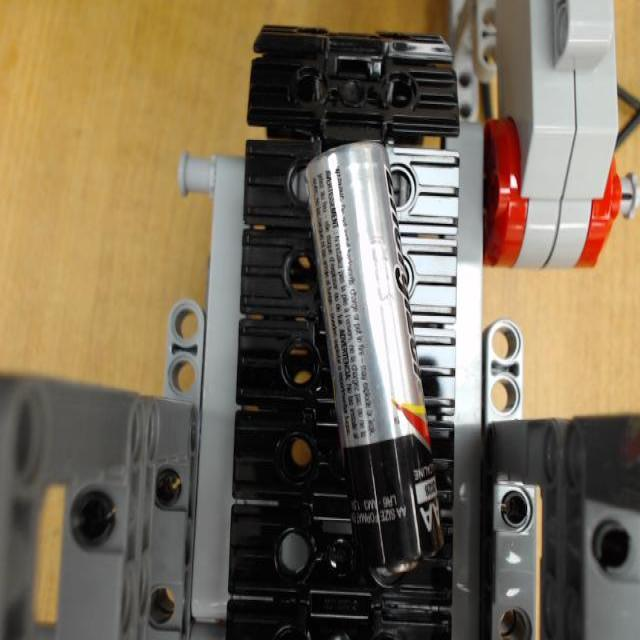AA: (293, 135, 446, 568)
